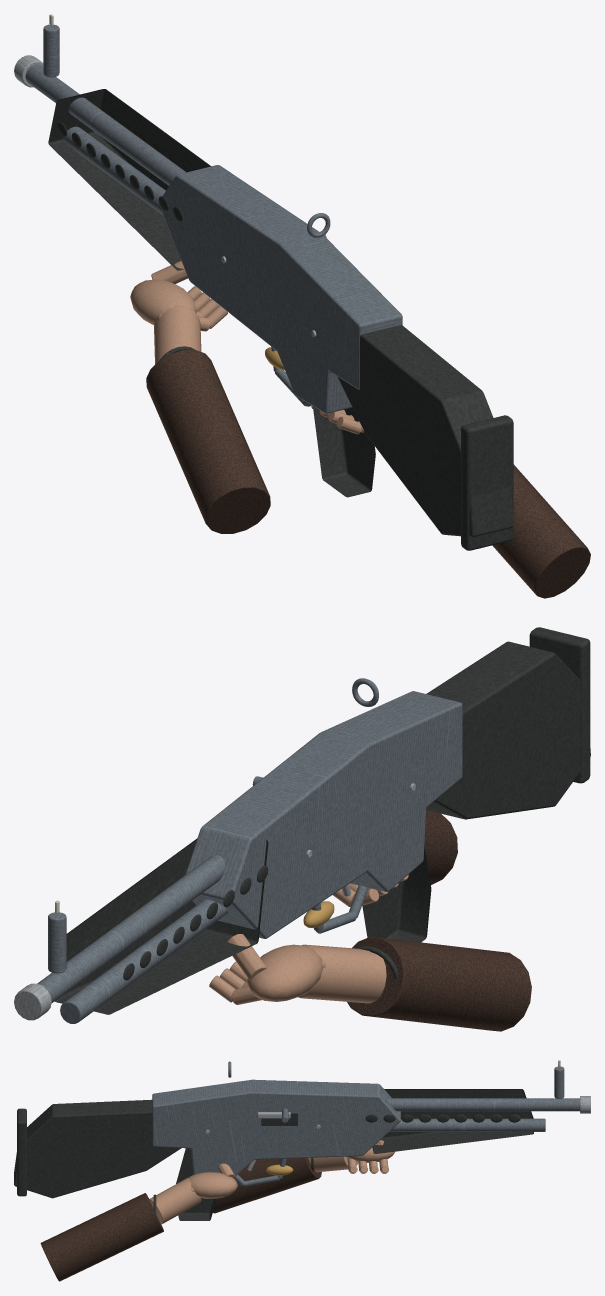
File: spas12.glb
The picture shows the model from 3 angles, top to bottom: view 1: azimuth 30°, elevation 25°; view 2: azimuth 150°, elevation 25°; view 3: azimuth 270°, elevation 25°; orthographic projection. The views are drawn at different scales.
Visible parts, largest first — view 1: spas12__BODY, spas12__HAND_L, spas12__HAND_R; view 2: spas12__BODY, spas12__HAND_L, spas12__HAND_R, spas12__SHELL; view 3: spas12__BODY, spas12__HAND_R, spas12__HAND_L.
Part boxes in pixels (x1,y1,x2,y2): spas12__BODY: (14, 14, 513, 550); spas12__HAND_L: (130, 260, 270, 533); spas12__HAND_R: (311, 405, 590, 598); spas12__BODY: (14, 627, 590, 1023); spas12__HAND_L: (209, 934, 531, 1031); spas12__HAND_R: (333, 810, 457, 906); spas12__SHELL: (303, 901, 334, 927); spas12__BODY: (14, 1060, 590, 1220); spas12__HAND_R: (40, 1163, 237, 1281); spas12__HAND_L: (213, 1140, 394, 1213).
Size of the model in its own units: 0.3294 by 0.3781 by 1.04.
7 materials, 7 textured.
